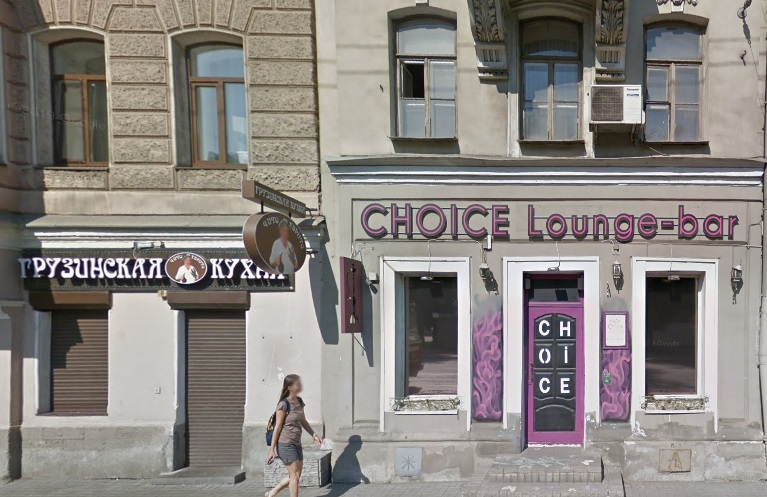cantilever: (240, 180, 319, 275)
signboard: (356, 196, 740, 243), (17, 249, 252, 282)
window: (393, 16, 459, 139), (519, 14, 582, 141), (644, 19, 706, 143), (403, 273, 458, 401), (190, 38, 244, 167), (54, 37, 106, 167), (52, 304, 110, 413), (646, 276, 698, 394)
